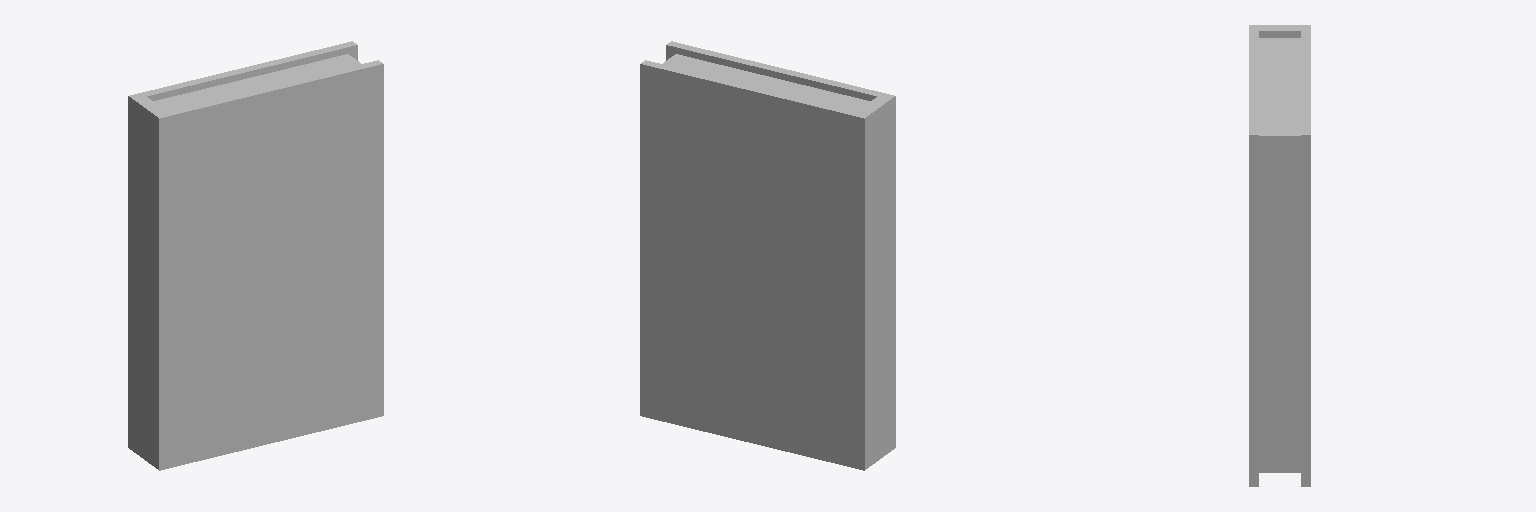
File: book_black.obj
3 views of the same model, side by side, from view 1: azimuth 30°, elevation 25°; view 2: azimuth 150°, elevation 25°; view 3: azimuth 270°, elevation 25° (orthographic).
Visible parts, largest first — view 1: Book_Black_Cube; view 2: Book_Black_Cube; view 3: Book_Black_Cube.
Part boxes in pixels (x1,y1,x2,y2): Book_Black_Cube: (128, 41, 383, 470); Book_Black_Cube: (640, 41, 895, 470); Book_Black_Cube: (1249, 25, 1310, 486).
Size of the model in its own units: 0.1592 by 0.2391 by 0.0381.